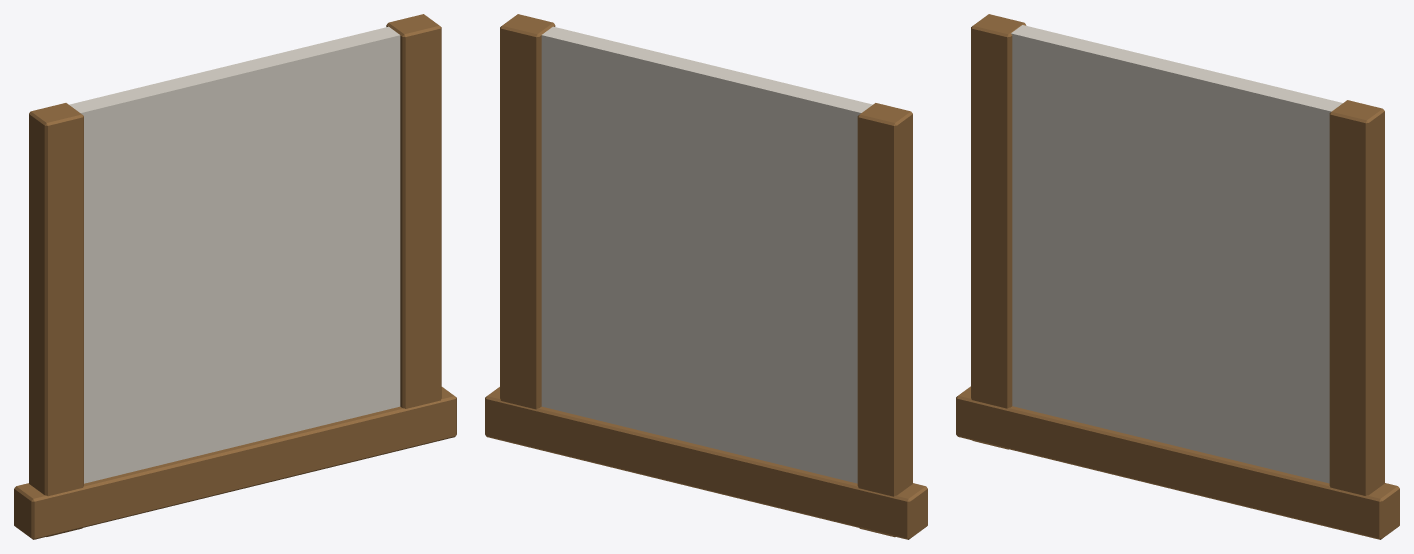
File: Wall.fbx
The picture shows the model from 3 angles, left to right: view 1: azimuth 30°, elevation 25°; view 2: azimuth 150°, elevation 25°; view 3: azimuth 330°, elevation 25°; orthographic projection.
Parts seen in each view (by area): view 1: Cube.092, Cube.136, Cube.141, Cube.130; view 2: Cube.092, Cube.136, Cube.141, Cube.130; view 3: Cube.092, Cube.130, Cube.141, Cube.136.
Boxes of the visible parts, x1,y1,x2,y2 form: Cube.092: [69, 26, 400, 483]; Cube.136: [29, 103, 83, 536]; Cube.141: [14, 387, 456, 539]; Cube.130: [386, 14, 441, 408]; Cube.092: [541, 26, 872, 483]; Cube.136: [857, 103, 912, 537]; Cube.141: [485, 387, 927, 539]; Cube.130: [500, 14, 555, 409]; Cube.092: [1011, 25, 1342, 483]; Cube.130: [1329, 100, 1384, 495]; Cube.141: [956, 386, 1399, 539]; Cube.136: [971, 14, 1026, 449].
Size of the model in its own units: 216 by 202 by 17.27.
